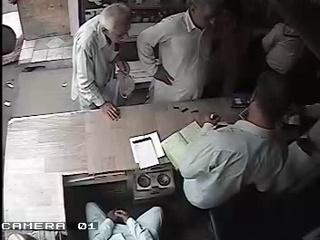Normal: (175, 70, 298, 234), (136, 0, 225, 104), (70, 3, 134, 122), (85, 202, 163, 239)
